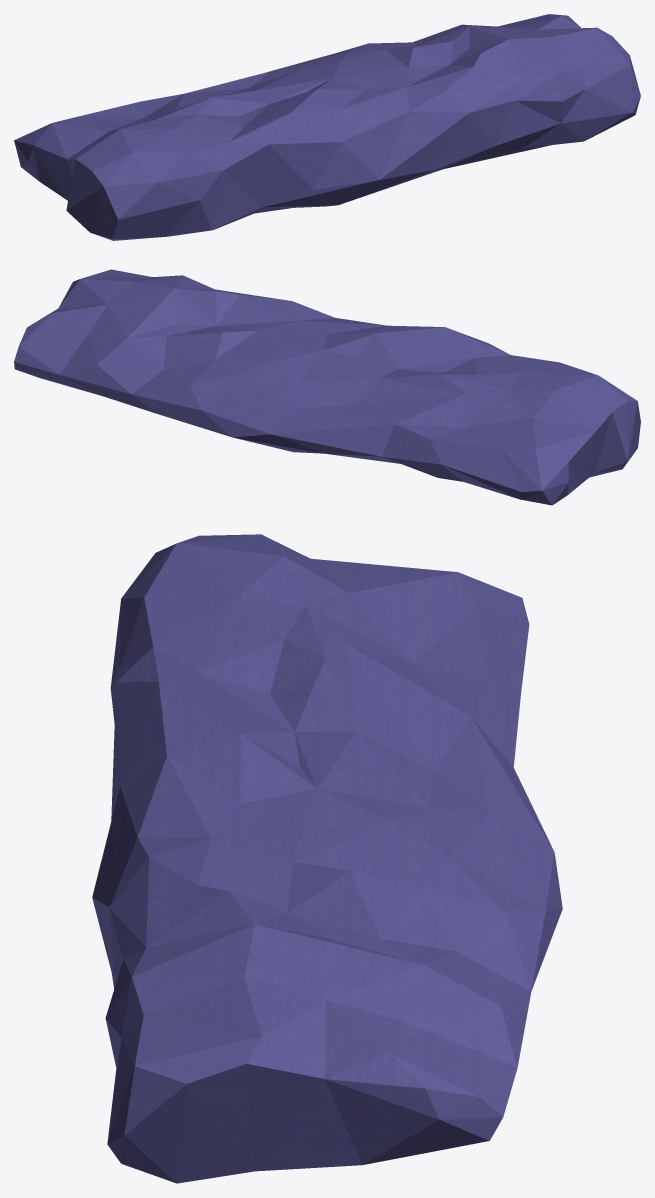
Rendered from Elder_IceWall4P1.fbx.
3 views of the same model, one above another, from view 1: azimuth 30°, elevation 25°; view 2: azimuth 150°, elevation 25°; view 3: azimuth 270°, elevation 25° (orthographic). The views are drawn at different scales.
Parts seen in each view (by area): view 1: Elder_IceWall4P1; view 2: Elder_IceWall4P1; view 3: Elder_IceWall4P1.
Boxes of the visible parts, x1=… form: Elder_IceWall4P1: x1=14, y1=14, x2=640, y2=240; Elder_IceWall4P1: x1=14, y1=269, x2=640, y2=505; Elder_IceWall4P1: x1=92, y1=534, x2=562, y2=1183.
Bounding box in the file's own units: 1445 × 263 × 537.
Materials: 1 (1 with a texture image).
